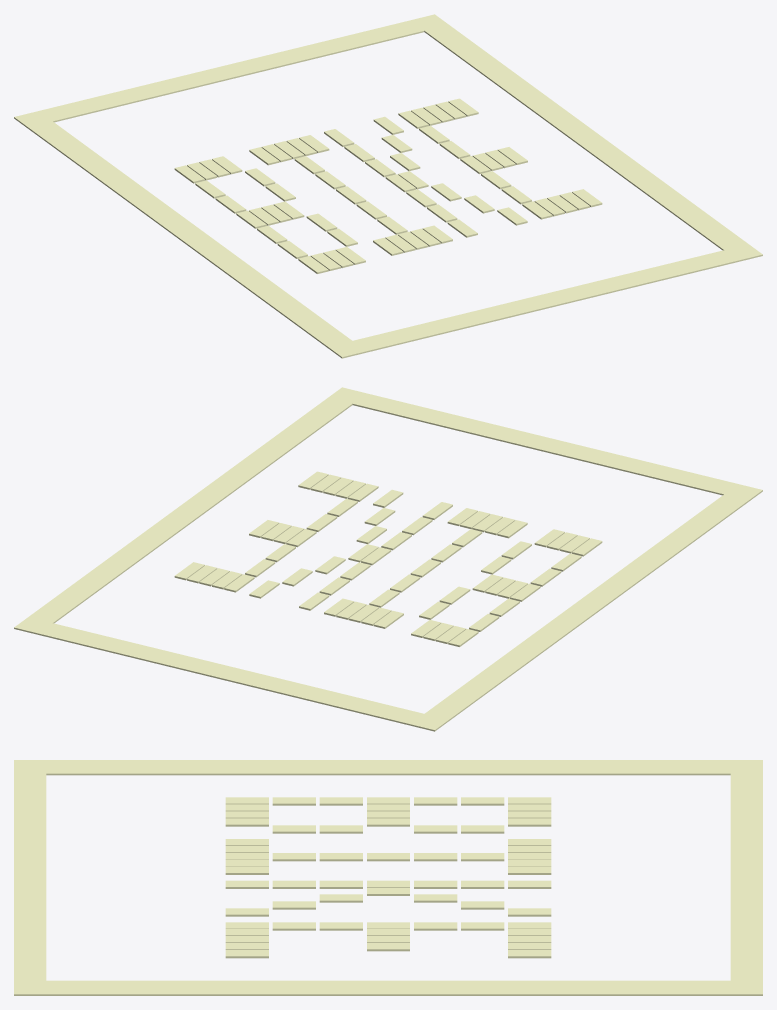
File: marking_bike_box_white.glb
3 renders of one model, top to bottom at view 1: azimuth 30°, elevation 25°; view 2: azimuth 150°, elevation 25°; view 3: azimuth 270°, elevation 25°, orthographic. The views are drawn at different scales.
Visible parts, largest first — view 1: bike_box_right, bike_box_left, bike_box_bottom, bike_box_top; view 2: bike_box_right, bike_box_left, bike_box_top, bike_box_bottom; view 3: bike_box_left, bike_box_right, bike_box_top, bike_box_bottom.
Part boxes in pixels (bbox=[...]): bike_box_right: bbox=[424, 25, 748, 250]; bike_box_left: bbox=[28, 121, 352, 347]; bike_box_bottom: bbox=[328, 244, 762, 358]; bike_box_top: bbox=[14, 14, 448, 128]; bike_box_right: bbox=[28, 398, 352, 623]; bike_box_left: bbox=[424, 494, 748, 720]; bike_box_top: bbox=[14, 617, 448, 731]; bike_box_bottom: bbox=[328, 387, 762, 501]; bike_box_left: bbox=[46, 760, 730, 775]; bike_box_right: bbox=[46, 980, 730, 995]; bike_box_top: bbox=[730, 760, 762, 995]; bike_box_bottom: bbox=[14, 760, 46, 995].
Bounding box in the file's own units: 1.54 × 0.006 × 2.08.
